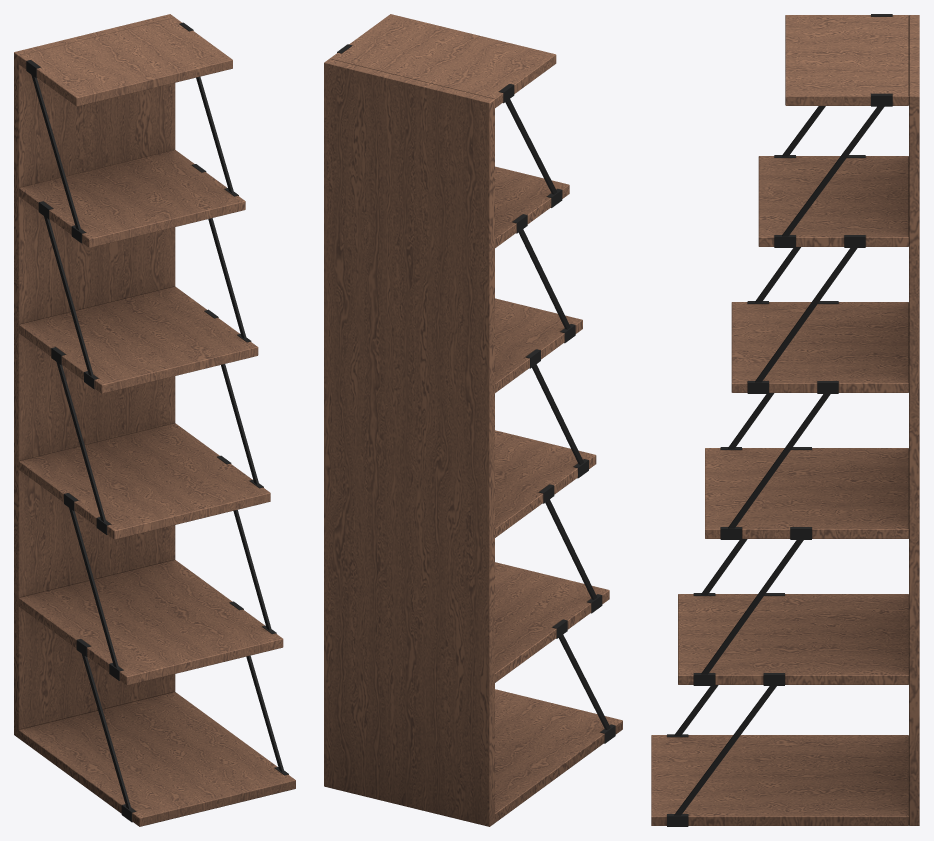
File: bookcase_22f7121c.glb
The picture shows the model from 3 angles, left to right: view 1: azimuth 30°, elevation 25°; view 2: azimuth 150°, elevation 25°; view 3: azimuth 270°, elevation 25°; orthographic projection. The views are drawn at different scales.
Visible parts, largest first — view 1: BookShelf, BookShelf_Stabilistators; view 2: BookShelf, BookShelf_Stabilistators; view 3: BookShelf, BookShelf_Stabilistators.
Part boxes in pixels (x1,y1,x2,y2): BookShelf: (14,14,295,826); BookShelf_Stabilistators: (26,22,288,822); BookShelf: (324,14,622,826); BookShelf_Stabilistators: (337,44,615,743); BookShelf: (651,15,919,825); BookShelf_Stabilistators: (667,14,892,826).
Bounding box in the file's own units: 0.3613 × 1.5 × 0.5.
2 materials, 1 textured.
